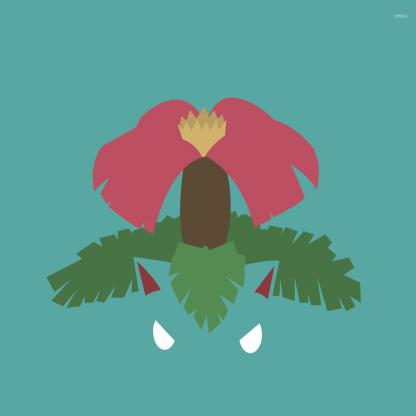Venusaur: (48, 56, 370, 384)
